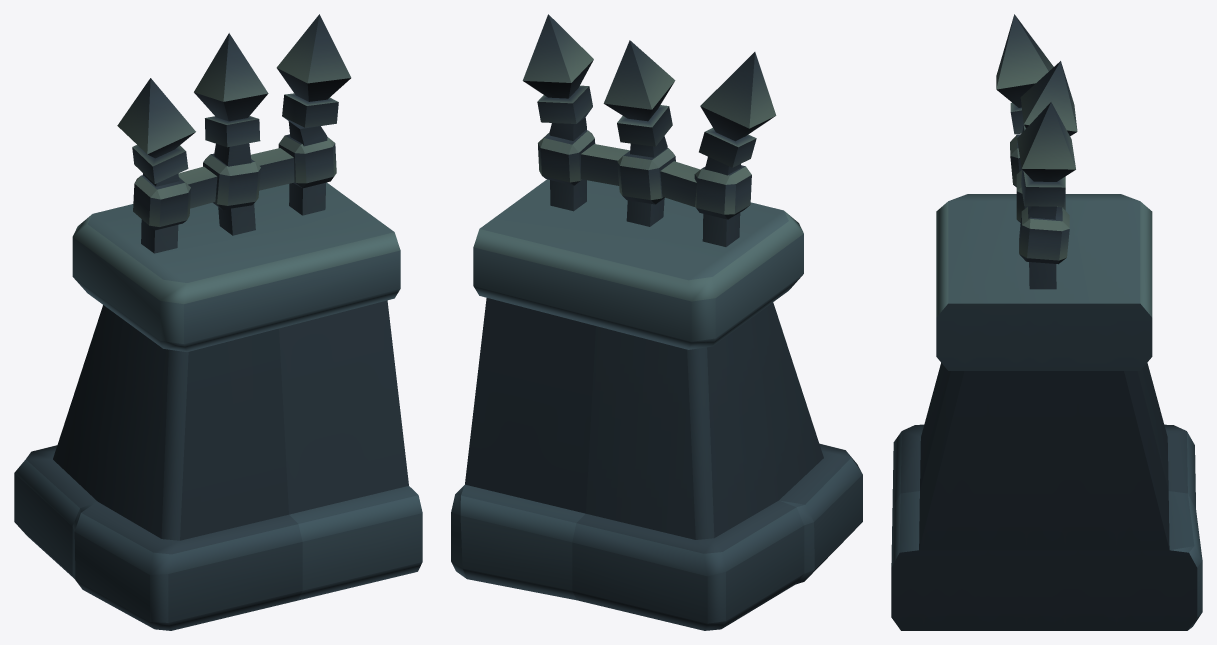
Rendered from wall_small_end.fbx.
3 views of the same model, side by side, from view 1: azimuth 30°, elevation 25°; view 2: azimuth 150°, elevation 25°; view 3: azimuth 270°, elevation 25° (orthographic).
Visible parts, largest first — view 1: wall_small_end; view 2: wall_small_end; view 3: wall_small_end.
Part boxes in pixels (x1=…): wall_small_end: x1=14, y1=14, x2=422, y2=630; wall_small_end: x1=451, y1=14, x2=862, y2=630; wall_small_end: x1=891, y1=14, x2=1202, y2=630.
Size of the model in its own units: 116 by 204 by 111.
